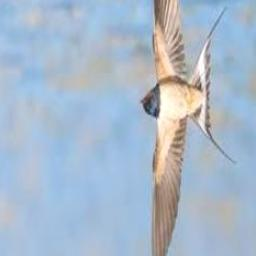Swallow: (141, 0, 237, 256)
